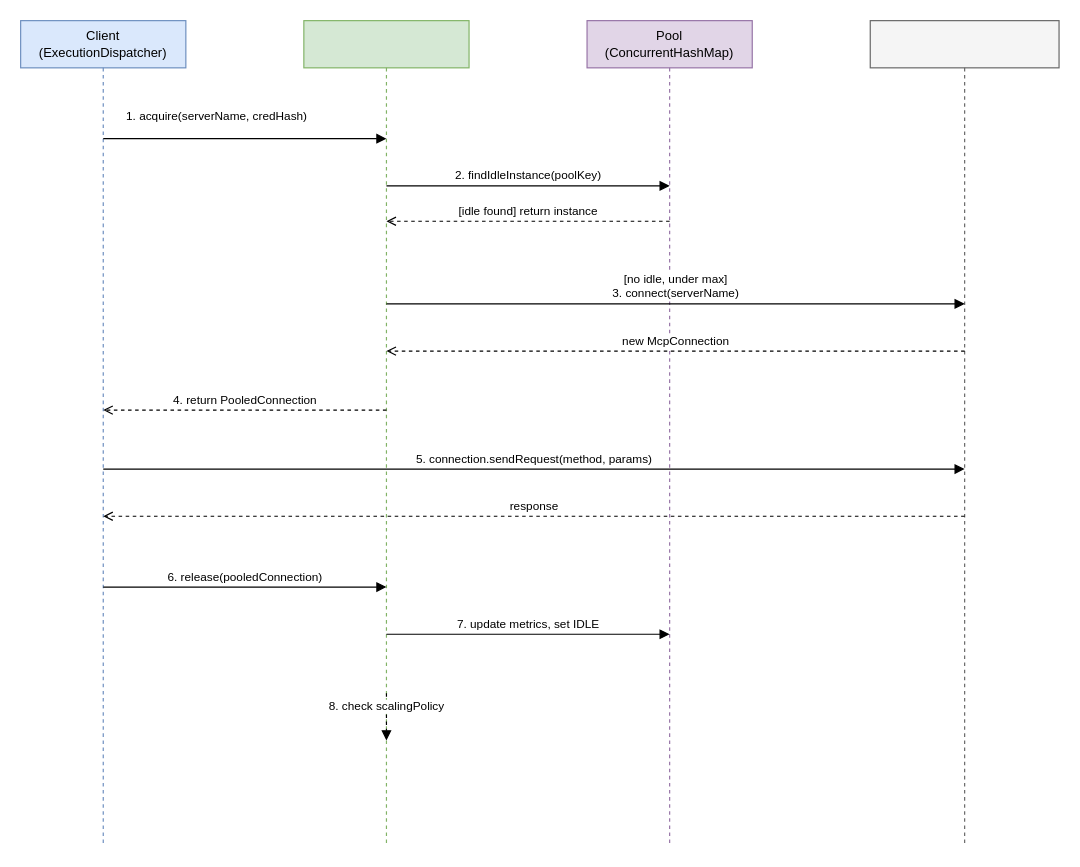
The diagram is 1080 pixels wide and 867 high, and some of its shapes have lost their labels. Each missing label, with the box of its shape:
ProcessPoolManager: (303, 19, 469, 847)
UpstreamServerManager: (869, 19, 1059, 847)
